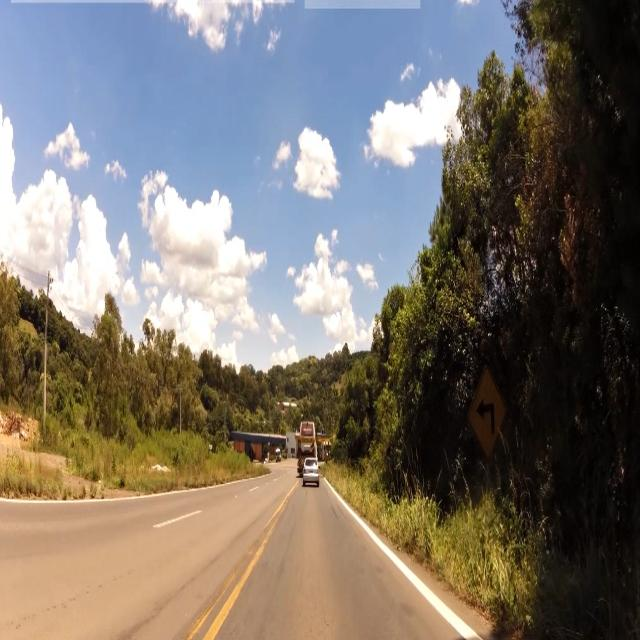A-1a: (472, 371, 504, 454)
